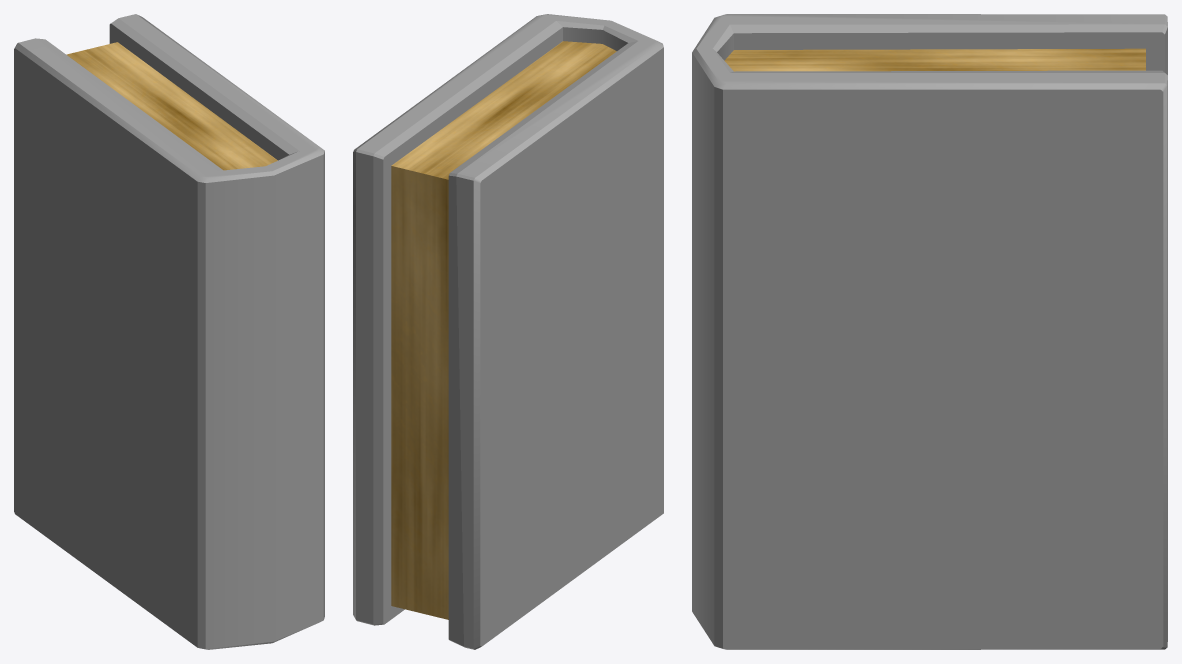
File: Library_Book.fbx
3 renders of one model, left to right at view 1: azimuth 30°, elevation 25°; view 2: azimuth 150°, elevation 25°; view 3: azimuth 270°, elevation 25°, orthographic. The views are drawn at different scales.
Visible parts, largest first — view 1: Book:pCube4; view 2: Book:pCube4; view 3: Book:pCube4.
Part boxes in pixels (<box>): Book:pCube4: <box>14,14,324,649</box>; Book:pCube4: <box>353,14,663,649</box>; Book:pCube4: <box>692,14,1167,649</box>.
Bounding box in the file's own units: 14.71 × 52.07 × 39.64.
